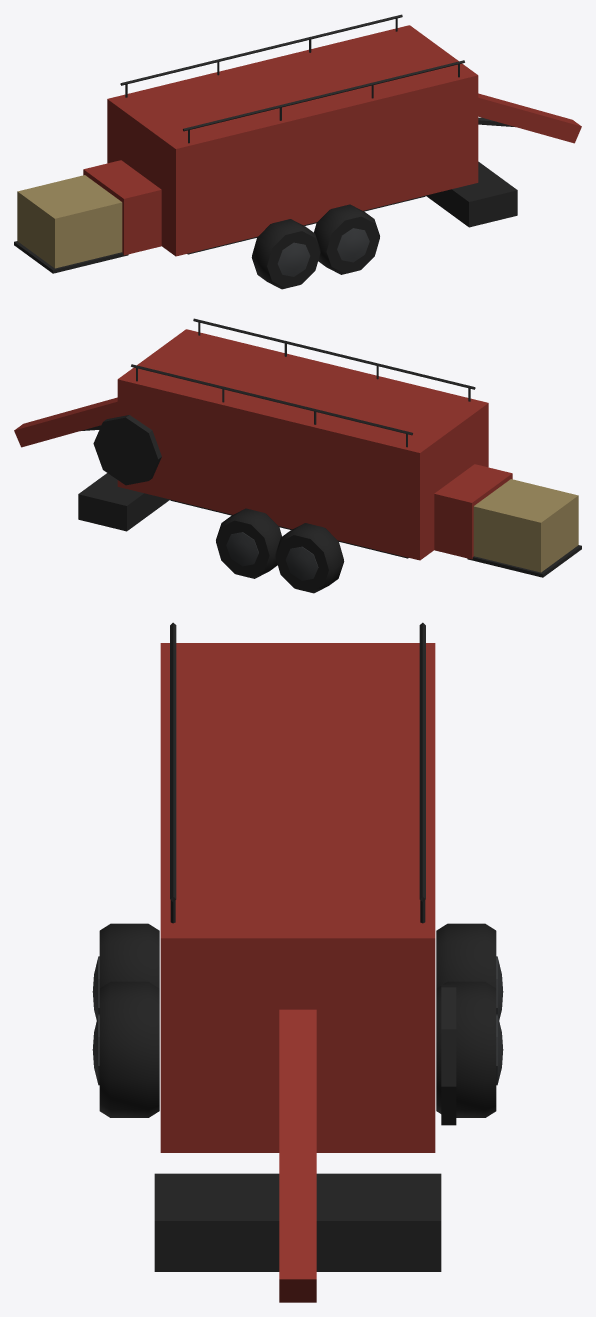
The model's file is SM_Prop_farm_baler_0_LOD1.glb.
3 renders of one model, top to bottom at view 1: azimuth 30°, elevation 25°; view 2: azimuth 150°, elevation 25°; view 3: azimuth 270°, elevation 25°, orthographic. The views are drawn at different scales.
Visible parts, largest first — view 1: SM_Prop_farm_baler_0_LOD1; view 2: SM_Prop_farm_baler_0_LOD1; view 3: SM_Prop_farm_baler_0_LOD1.
Boxes of the visible parts, x1,y1,x2,y2 form: SM_Prop_farm_baler_0_LOD1: (14, 14, 581, 289); SM_Prop_farm_baler_0_LOD1: (14, 318, 581, 593); SM_Prop_farm_baler_0_LOD1: (92, 622, 503, 1302).
Size of the model in its own units: 10.07 by 3 by 3.29.
